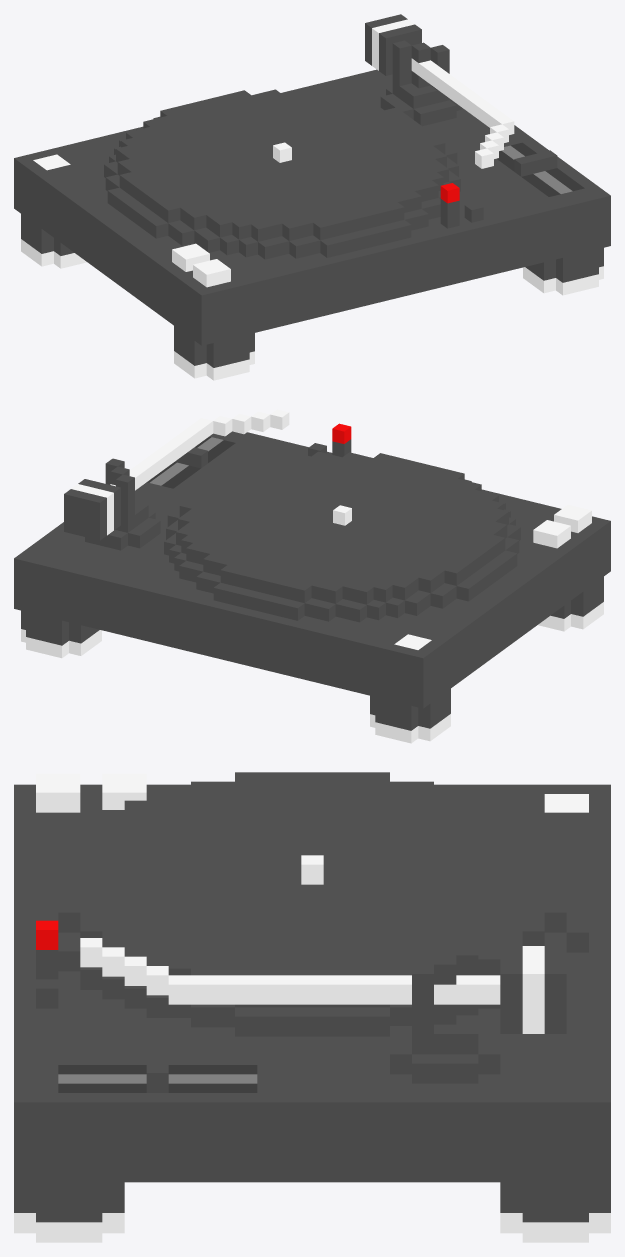
The model's file is voxel_turntable.glb.
The picture shows the model from 3 angles, top to bottom: view 1: azimuth 30°, elevation 25°; view 2: azimuth 150°, elevation 25°; view 3: azimuth 270°, elevation 25°; orthographic projection. The views are drawn at different scales.
Parts seen in each view (by area): view 1: Object_2; view 2: Object_2; view 3: Object_2.
Boxes of the visible parts, bbox=[...] form: Object_2: bbox=[14, 14, 610, 380]; Object_2: bbox=[14, 409, 610, 743]; Object_2: bbox=[14, 772, 610, 1242].
Bounding box in the file's own units: 34 × 12 × 27.
1 material, 1 textured.
